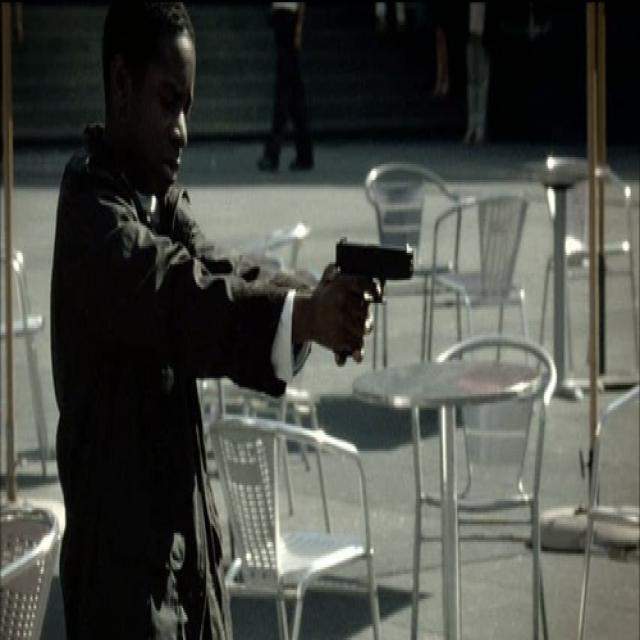weapons: (315, 213, 429, 381)
